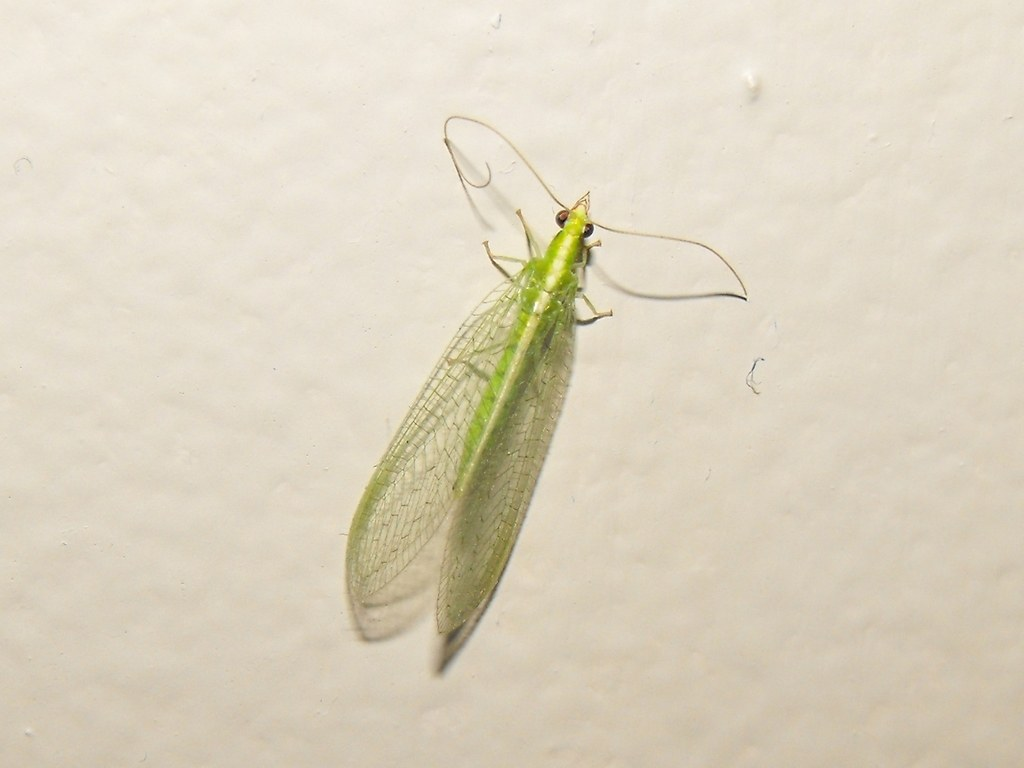insect: (346, 110, 745, 642)
